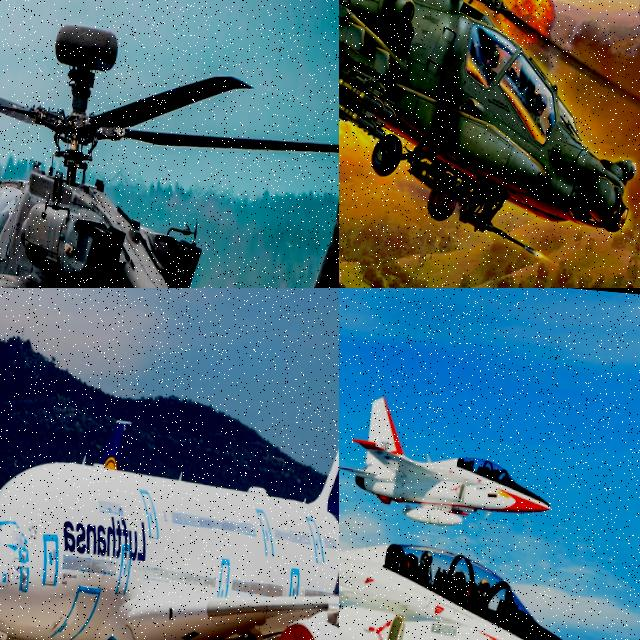A380: (0, 288, 339, 640)
Apache: (0, 3, 339, 288), (339, 0, 640, 276)
KT-1: (339, 383, 640, 640), (339, 382, 557, 533)
